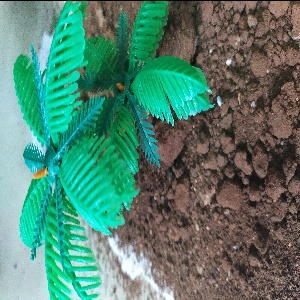plant: (1, 1, 214, 300)
